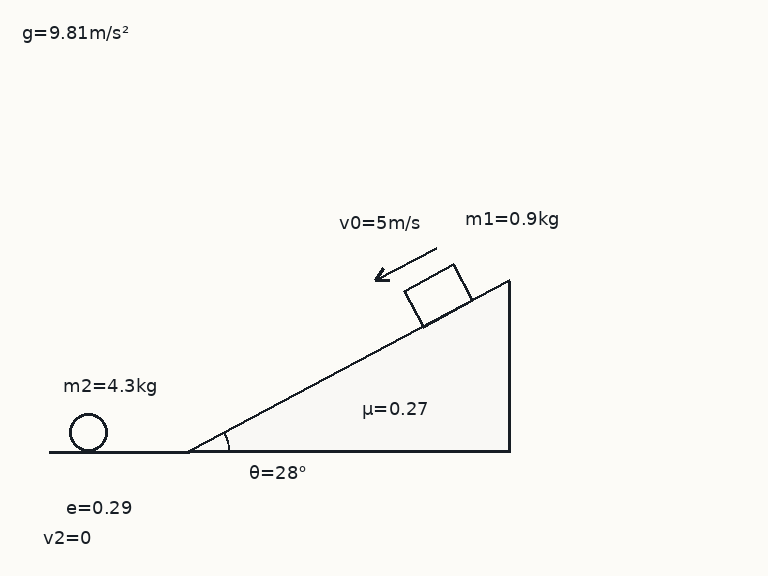ball: (67, 411, 109, 453)
block: (402, 263, 474, 329)
ramp: (187, 279, 511, 453)
